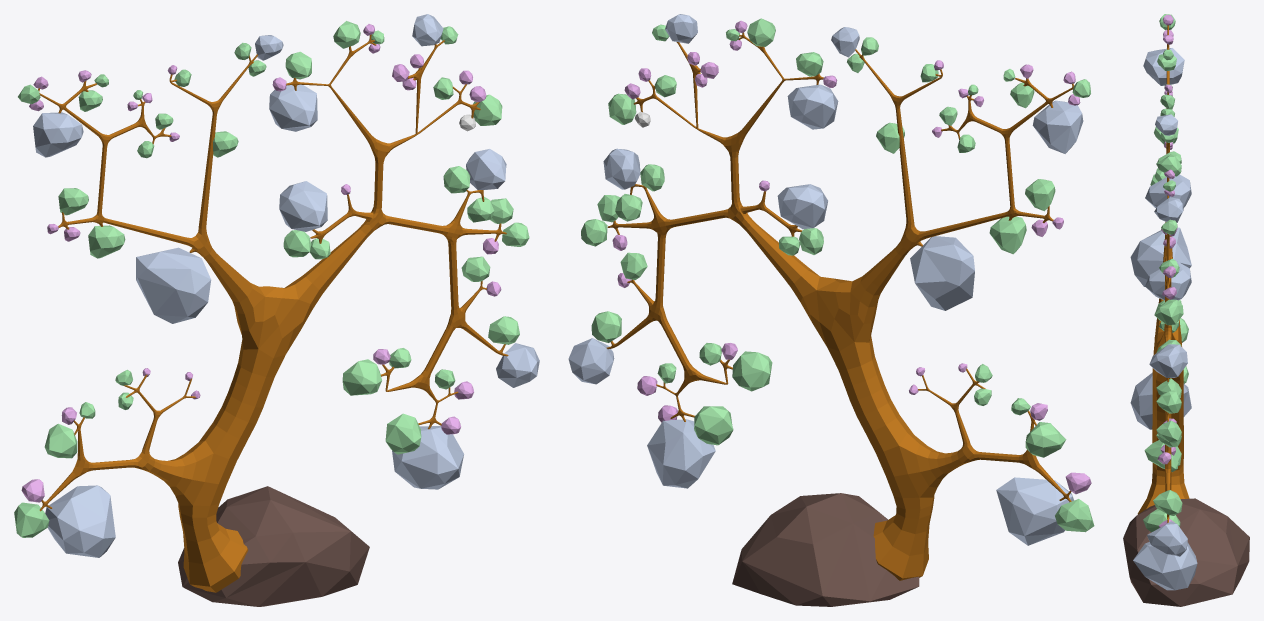
The model's file is TreeLevel.fbx.
3 renders of one model, left to right at view 1: azimuth 30°, elevation 25°; view 2: azimuth 150°, elevation 25°; view 3: azimuth 270°, elevation 25°, orthographic. The views are drawn at different scales.
Parts seen in each view (by area): view 1: Cube, Icosphere, Icosphere.059, Icosphere.064, Icosphere.003, Icosphere.031, Icosphere.030, Icosphere.052, Icosphere.004, Icosphere.018, Icosphere.011, Icosphere.009 (+6 smaller); view 2: Cube, Icosphere, Icosphere.059, Icosphere.064, Icosphere.003, Icosphere.052, Icosphere.030, Icosphere.031, Icosphere.004, Icosphere.011, Icosphere.009, Icosphere.018 (+6 smaller); view 3: Icosphere, Cube, Icosphere.003, Icosphere.059, Icosphere.064, Icosphere.004, Icosphere.018, Icosphere.031, Icosphere.052, Icosphere.030, Icosphere.019, Icosphere.006 (+9 smaller).
Boxes of the visible parts, box(x1,y1,x2,y2) form: Cube: box(38, 34, 508, 592); Icosphere: box(178, 486, 369, 606); Icosphere.059: box(136, 247, 211, 323); Icosphere.064: box(45, 485, 115, 557); Icosphere.003: box(392, 426, 463, 489); Icosphere.031: box(279, 181, 327, 231); Icosphere.030: box(269, 82, 317, 131); Icosphere.052: box(33, 112, 83, 157); Icosphere.004: box(496, 343, 539, 387); Icosphere.018: box(466, 149, 506, 189); Icosphere.011: box(385, 413, 421, 454); Icosphere.009: box(342, 359, 381, 395); Cube: box(606, 32, 1074, 580); Icosphere: box(732, 493, 919, 606); Icosphere.059: box(910, 236, 974, 310); Icosphere.064: box(996, 477, 1073, 545); Icosphere.003: box(647, 419, 715, 488); Icosphere.052: box(1032, 100, 1083, 153); Icosphere.030: box(787, 84, 838, 129); Icosphere.031: box(777, 184, 827, 229); Icosphere.004: box(568, 338, 614, 384); Icosphere.011: box(694, 406, 733, 445); Icosphere.009: box(732, 351, 772, 391); Icosphere.018: box(603, 148, 640, 189); Icosphere: box(1123, 498, 1249, 606); Cube: box(1137, 25, 1189, 522); Icosphere.003: box(1133, 542, 1197, 590); Icosphere.059: box(1130, 227, 1191, 286); Icosphere.064: box(1130, 372, 1191, 429); Icosphere.004: box(1147, 521, 1187, 556); Icosphere.018: box(1149, 344, 1187, 377); Icosphere.031: box(1145, 261, 1191, 300); Icosphere.052: box(1143, 48, 1184, 85); Icosphere.030: box(1145, 174, 1191, 208); Icosphere.019: box(1154, 299, 1183, 325); Icosphere.006: box(1153, 490, 1182, 515).
Size of the model in its own units: 7119 by 7504 by 1826.
